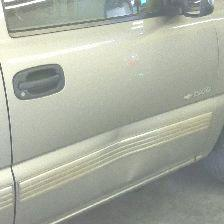door_dent: (82, 114, 165, 192)
